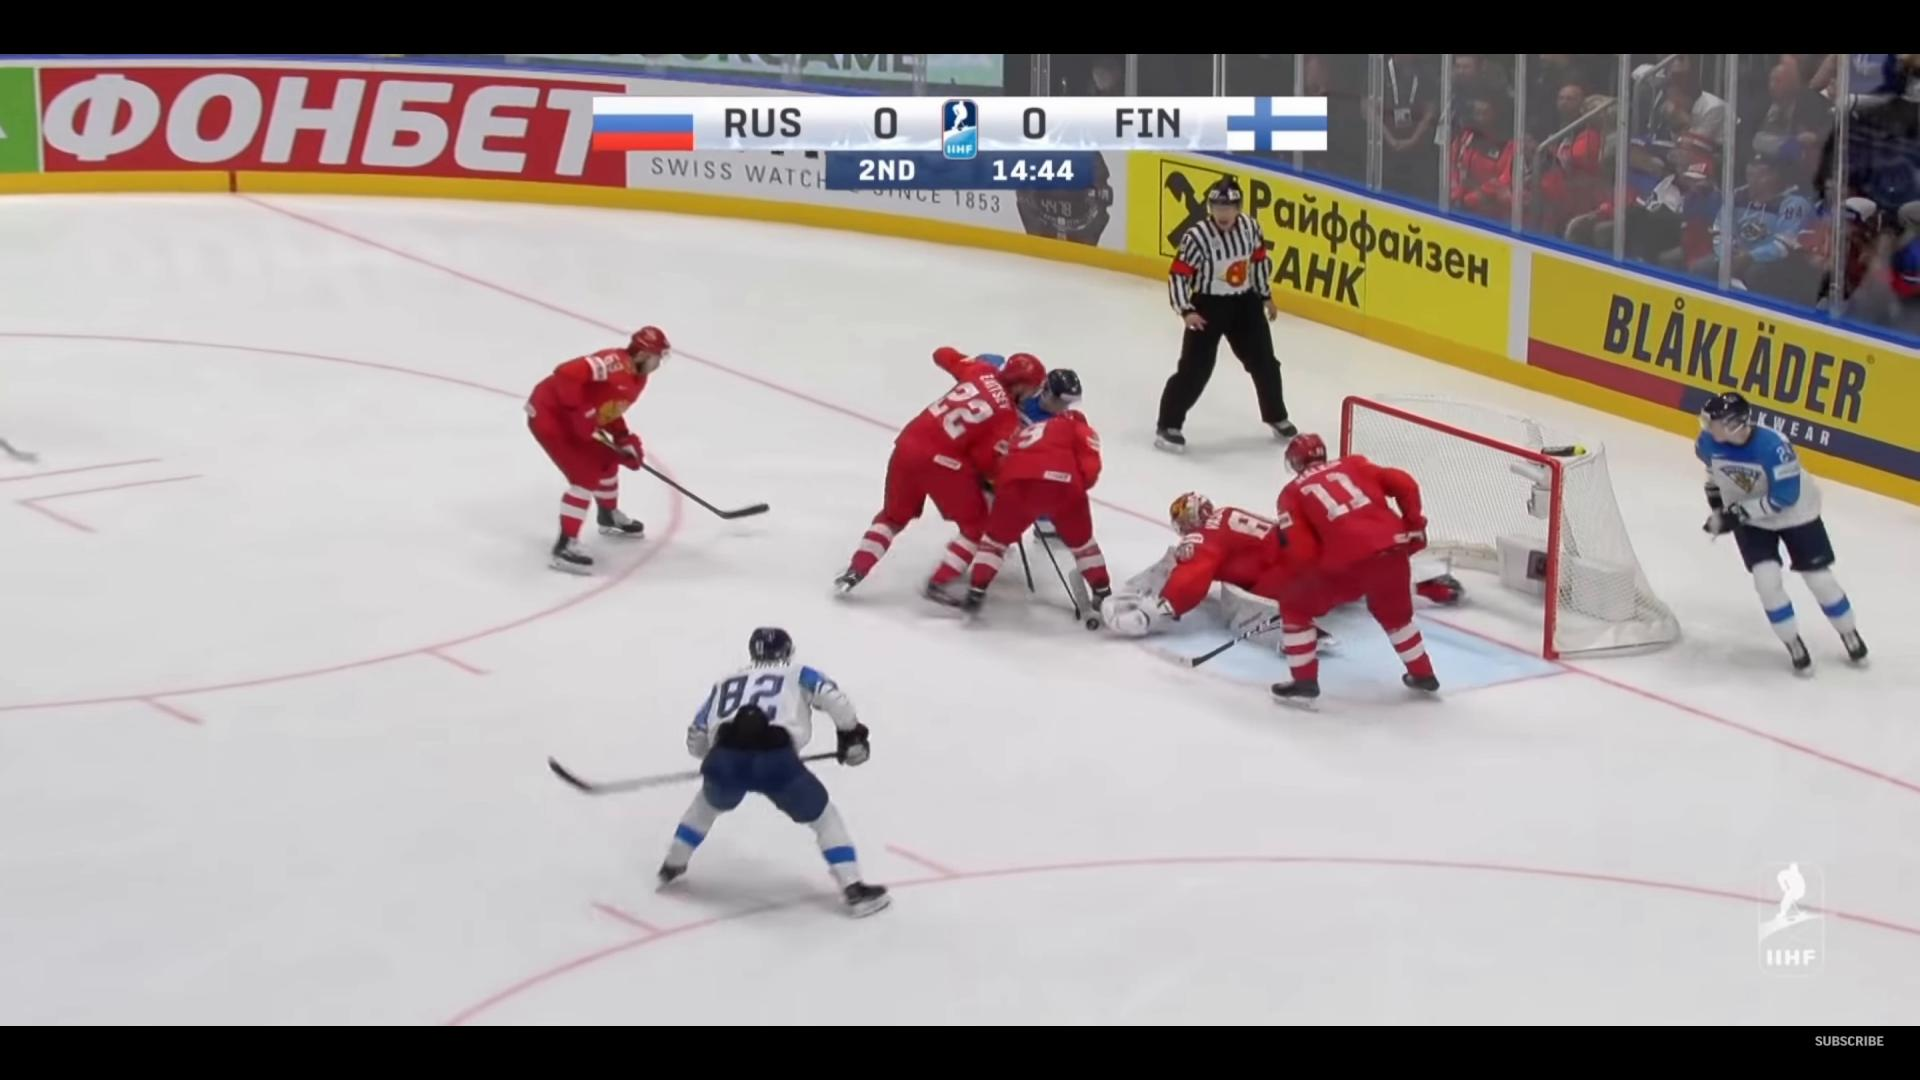puck: (1084, 617, 1098, 630)
